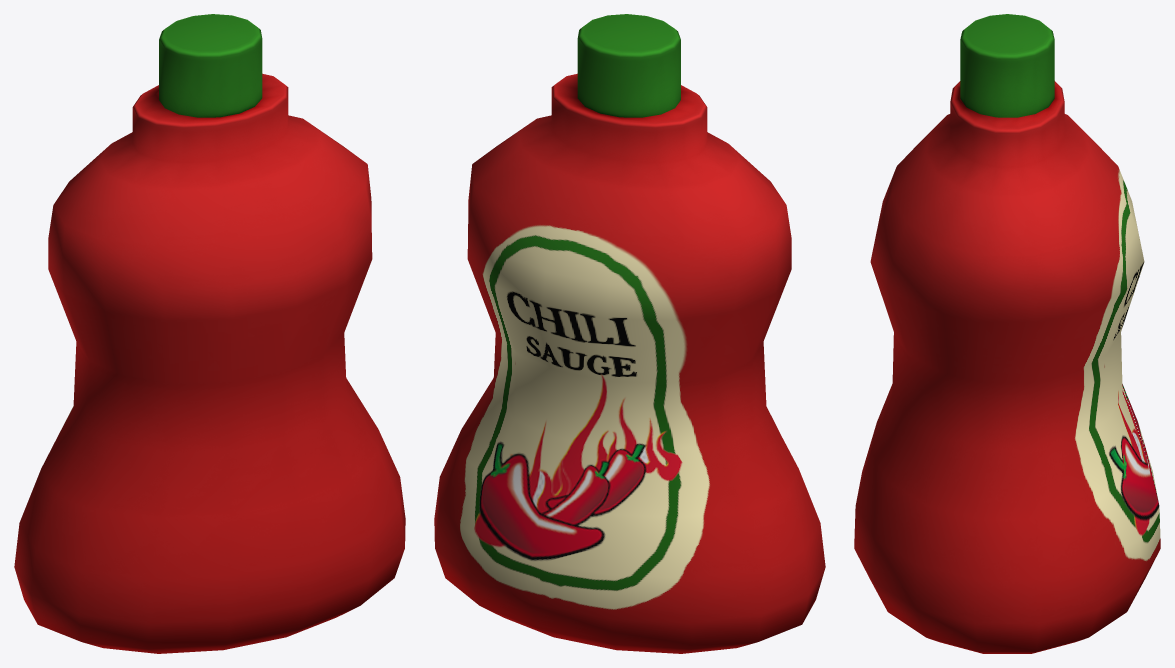
The model's file is tuong ot.fbx.
3 views of the same model, side by side, from view 1: azimuth 30°, elevation 25°; view 2: azimuth 150°, elevation 25°; view 3: azimuth 270°, elevation 25° (orthographic). The views are drawn at different scales.
Parts seen in each view (by area): view 1: tuong_ot; view 2: tuong_ot; view 3: tuong_ot.
Boxes of the visible parts, <box> form: tuong_ot: <box>14,14,405,653</box>; tuong_ot: <box>434,14,825,653</box>; tuong_ot: <box>854,14,1160,653</box>.
Bounding box in the file's own units: 75.61 × 114 × 57.41.
Materials: 1 (1 with a texture image).
